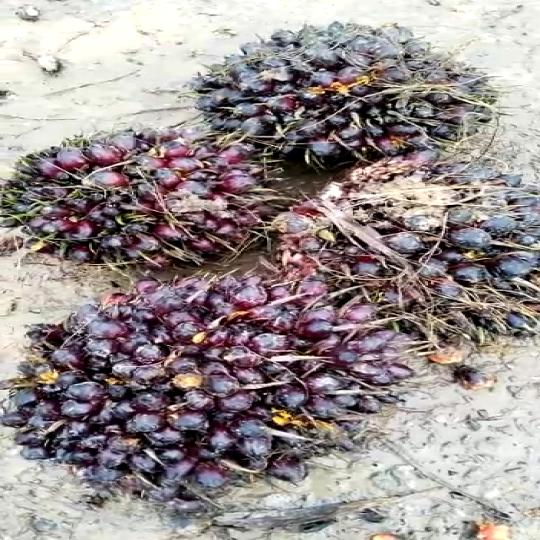kurang masak: (17, 272, 400, 512), (291, 165, 540, 358), (204, 33, 524, 178), (0, 114, 259, 263)
